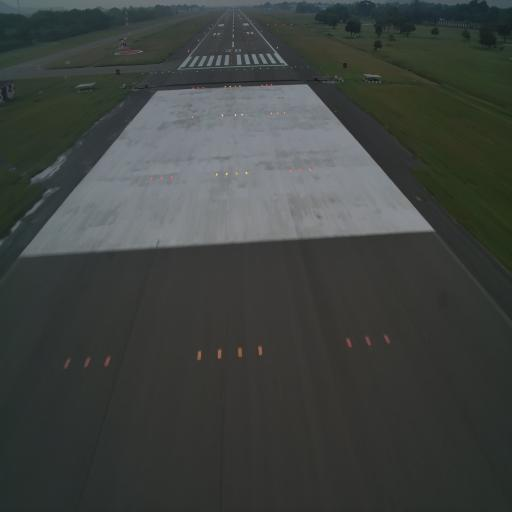on: (380, 330, 393, 352), (252, 341, 264, 361), (214, 342, 224, 364), (344, 334, 354, 354), (195, 344, 204, 366), (100, 352, 112, 368), (61, 355, 72, 372), (364, 334, 374, 351), (84, 354, 92, 372), (237, 340, 244, 360)
